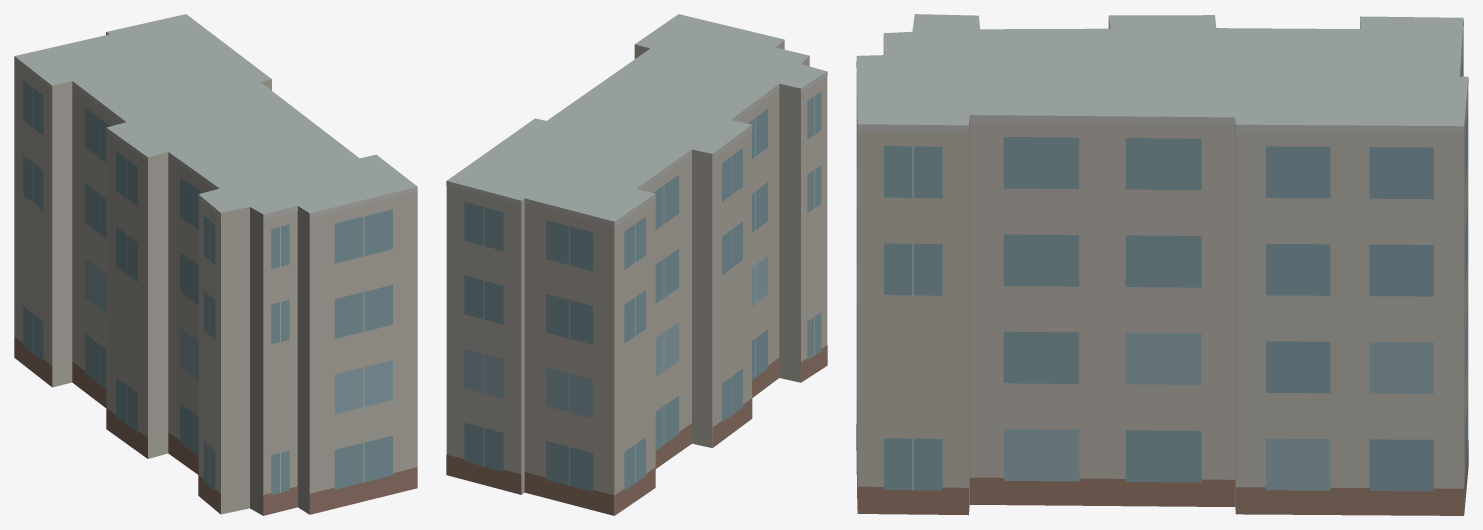
The model's file is survey-upis-33031879.glb.
3 views of the same model, side by side, from view 1: azimuth 30°, elevation 25°; view 2: azimuth 150°, elevation 25°; view 3: azimuth 270°, elevation 25° (orthographic). The views are drawn at different scales.
Visible parts, largest first — view 1: survey-upis-33031879.tmp; view 2: survey-upis-33031879.tmp; view 3: survey-upis-33031879.tmp.
Boxes of the visible parts, bbox=[...] form: survey-upis-33031879.tmp: bbox=[14, 14, 417, 515]; survey-upis-33031879.tmp: bbox=[446, 14, 827, 515]; survey-upis-33031879.tmp: bbox=[856, 14, 1468, 515].
Bounding box in the file's own units: 8.88 × 14.37 × 20.46.
